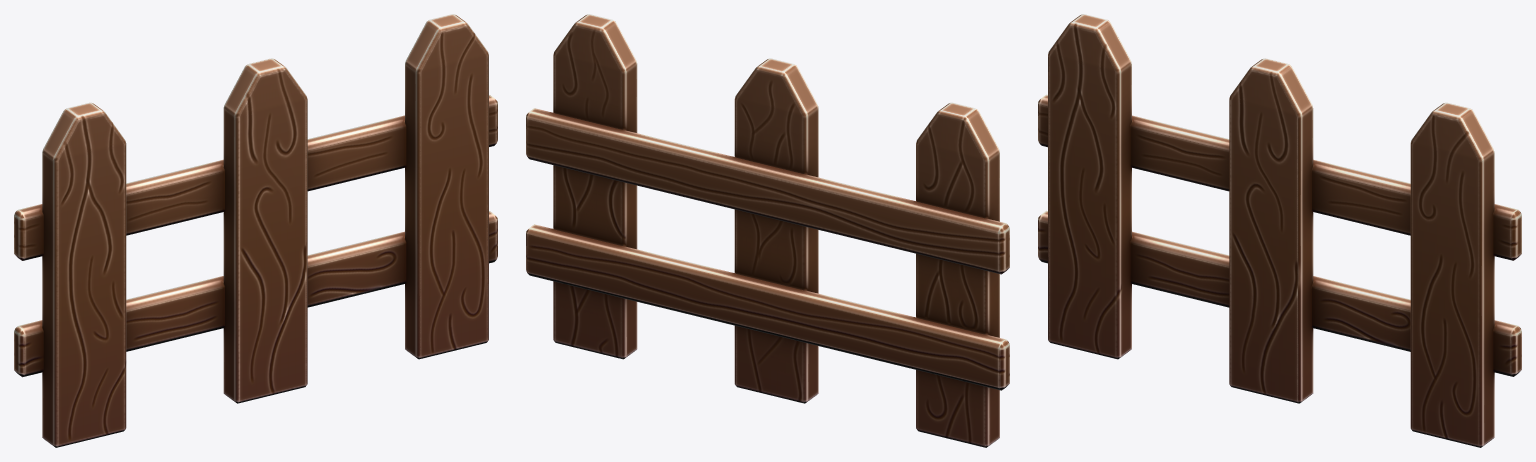
The model's file is fence.glb.
The picture shows the model from 3 angles, left to right: view 1: azimuth 30°, elevation 25°; view 2: azimuth 150°, elevation 25°; view 3: azimuth 330°, elevation 25°; orthographic projection.
Visible parts, largest first — view 1: Cerca02; view 2: Cerca02; view 3: Cerca02.
Part boxes in pixels (left/top/right/bottom): Cerca02: left=14, top=14, right=497, bottom=447; Cerca02: left=526, top=14, right=1009, bottom=447; Cerca02: left=1038, top=14, right=1521, bottom=447.
Bounding box in the file's own units: 4.2 × 2.73 × 0.3206.
1 material, 1 textured.
